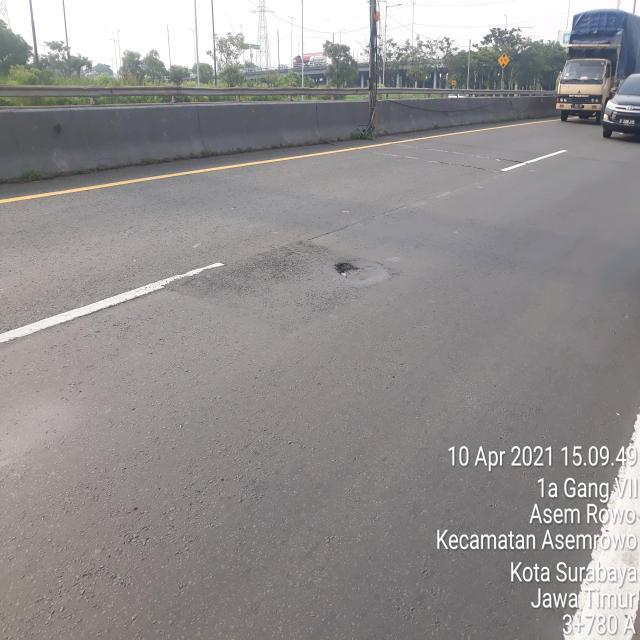Buraco: (331, 260, 363, 280)
